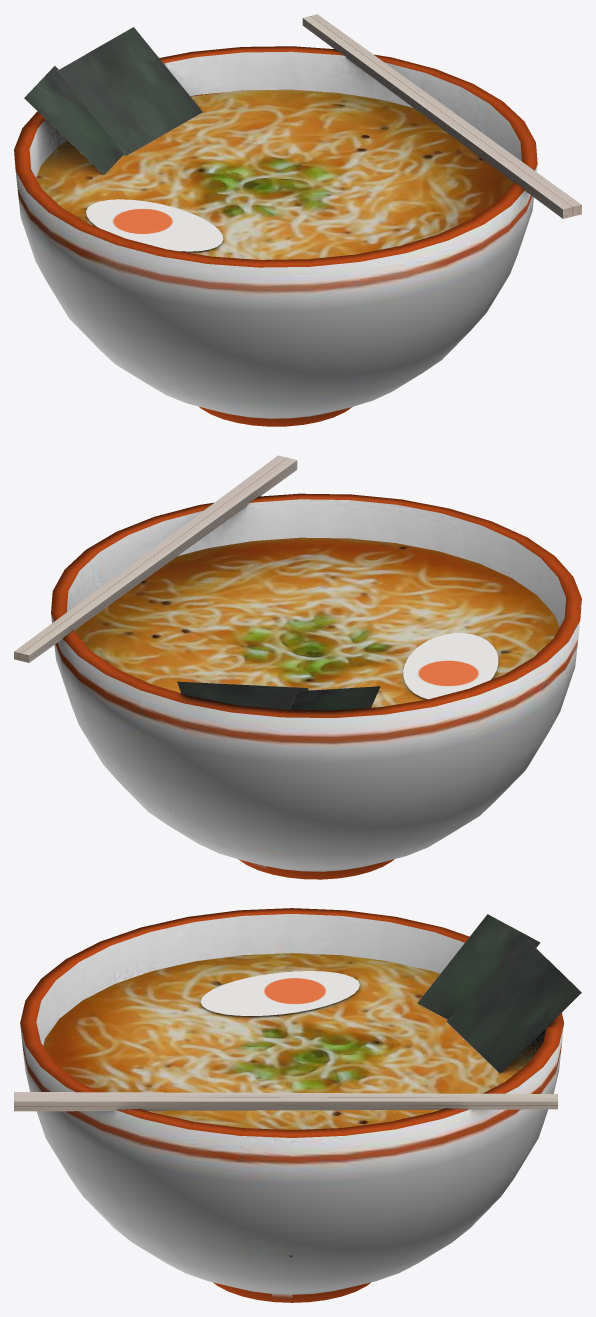
The model's file is ramen.glb.
3 renders of one model, top to bottom at view 1: azimuth 30°, elevation 25°; view 2: azimuth 150°, elevation 25°; view 3: azimuth 270°, elevation 25°, orthographic. The views are drawn at different scales.
Parts seen in each view (by area): view 1: bowl, addon, chop; view 2: bowl, addon, chop; view 3: bowl, addon, chop.
Boxes of the visible parts, box(x1,y1,x2,y2) form: bowl: box(14, 46, 537, 426); addon: box(24, 27, 223, 251); chop: box(302, 14, 581, 218); bowl: box(51, 493, 581, 879); addon: box(177, 633, 498, 710); chop: box(14, 455, 297, 662); bowl: box(20, 908, 564, 1302); addon: box(200, 914, 581, 1072); chop: box(14, 1092, 557, 1111).
Size of the model in its own units: 0.206 by 0.1133 by 0.215.
3 materials, 3 textured.
